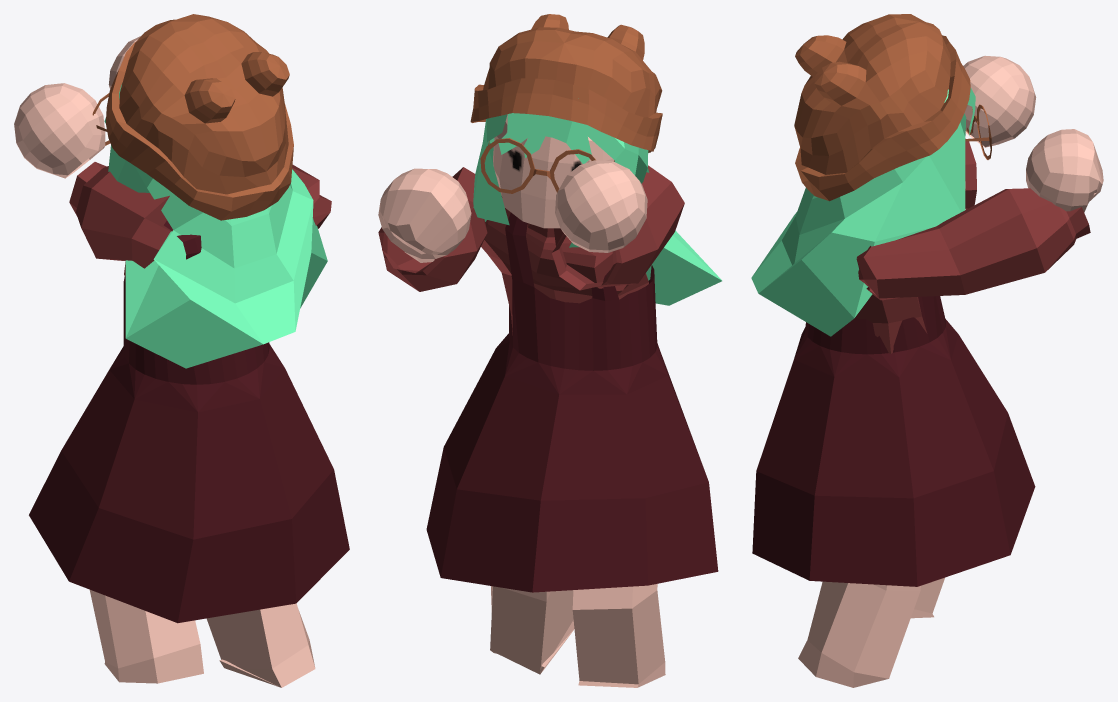
The model's file is phare_girl.glb.
3 renders of one model, left to right at view 1: azimuth 30°, elevation 25°; view 2: azimuth 150°, elevation 25°; view 3: azimuth 270°, elevation 25°, orthographic. The views are drawn at different scales.
Visible parts, largest first — view 1: full model; view 2: full model; view 3: full model.
Boxes of the visible parts, <box> form: full model: <box>14,14,349,687</box>; full model: <box>378,14,721,687</box>; full model: <box>751,14,1103,687</box>.
Size of the model in its own units: 1.61 by 3.73 by 1.9.
Materials: 5 (1 with a texture image).
